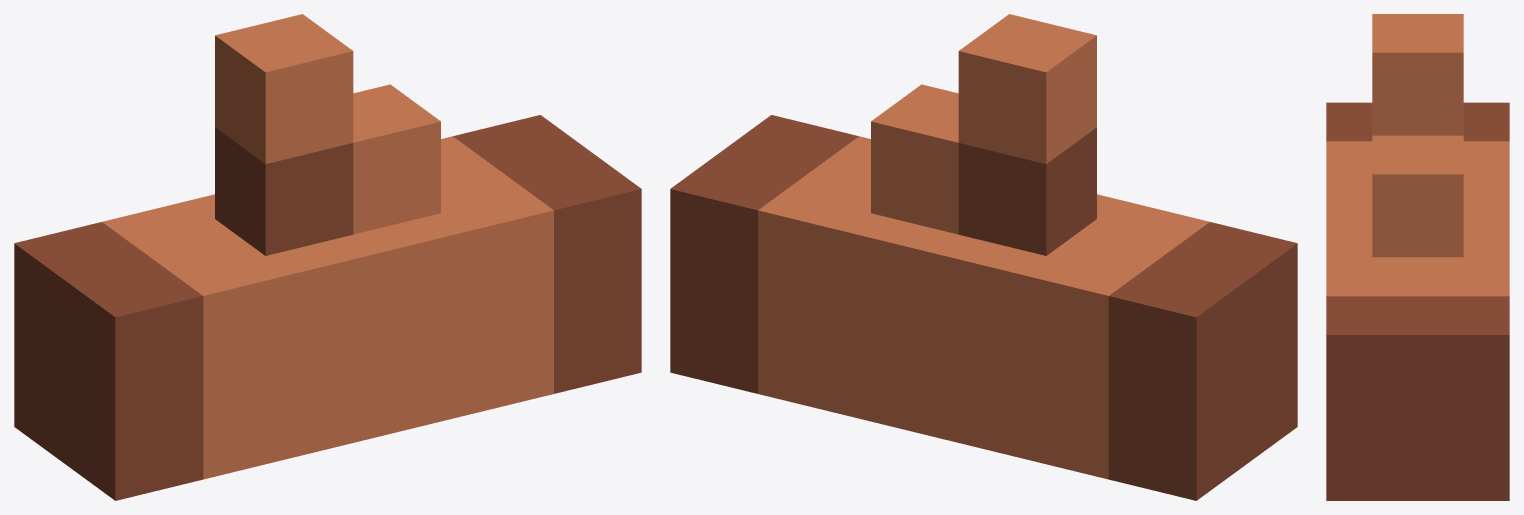
File: wood-stick-01.obj
3 renders of one model, left to right at view 1: azimuth 30°, elevation 25°; view 2: azimuth 150°, elevation 25°; view 3: azimuth 270°, elevation 25°, orthographic. The views are drawn at different scales.
Bounding box in the file's own units: 6 × 4 × 2.
Materials: 1 (1 with a texture image).
